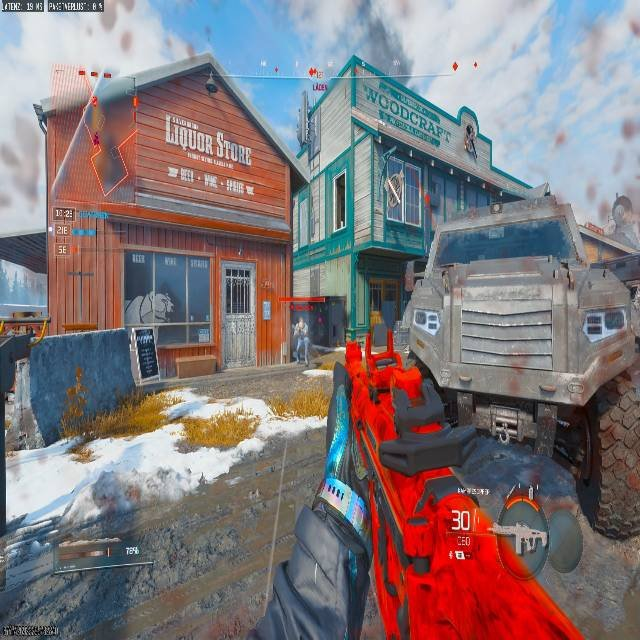head: (298, 318, 305, 325)
player: (292, 317, 309, 364)
